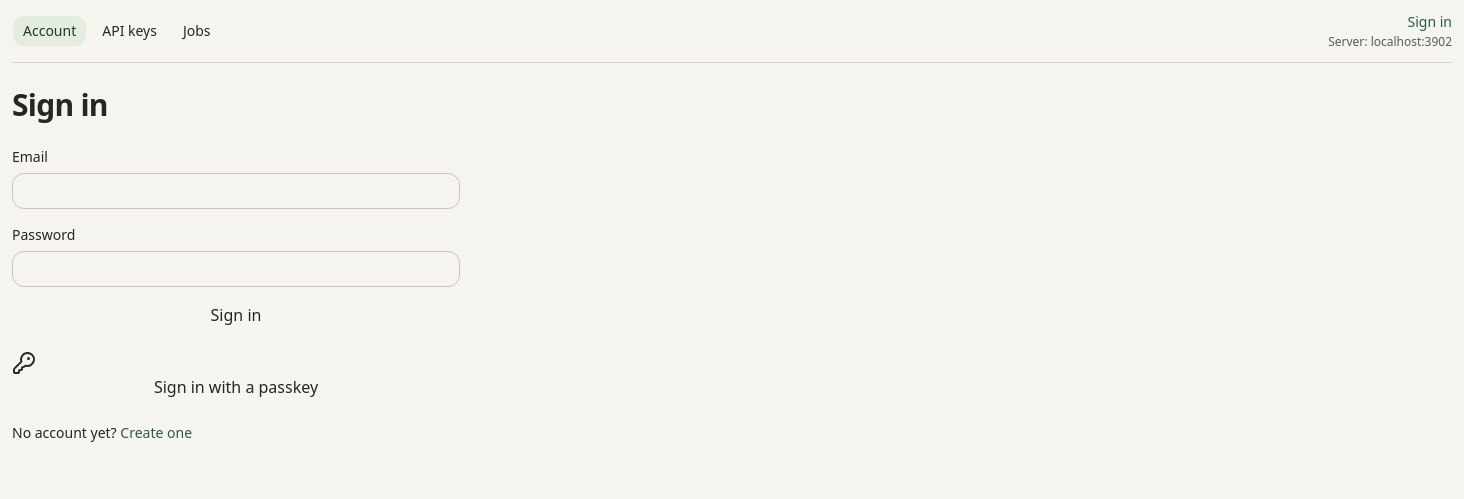
Scenario: sign in › shows the service's refusal
Type "ada@example.com" into the field labelled "Email". click: (236, 191)
box: [12,173,460,209]
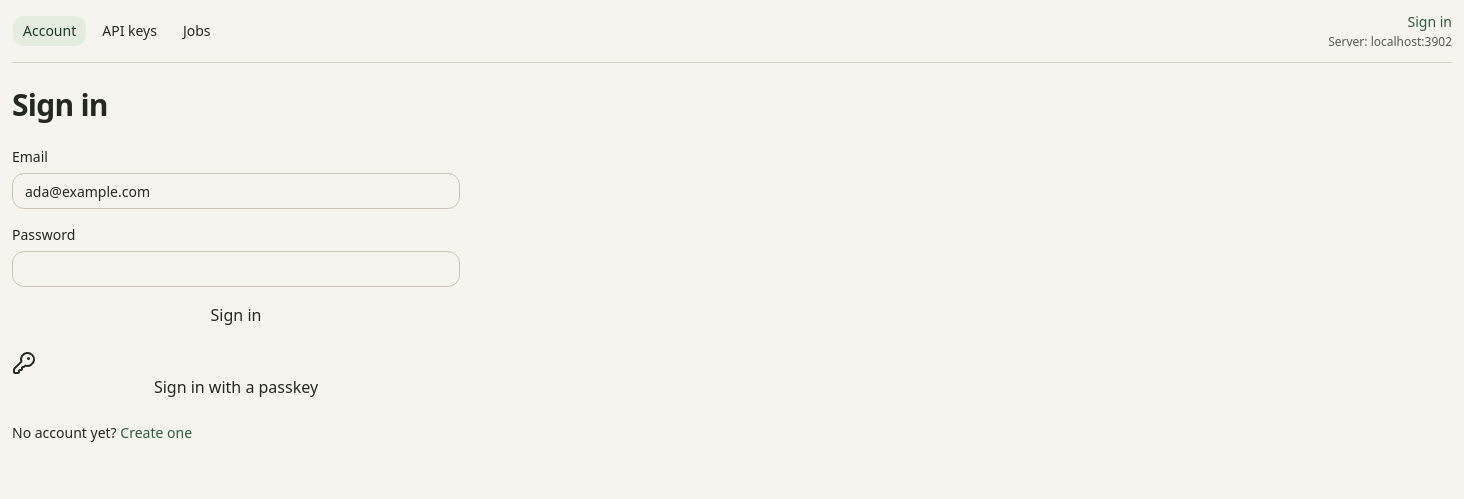
Type "wrong password" into the password field labelled "Password". click: (236, 269)
box: [12,251,460,287]
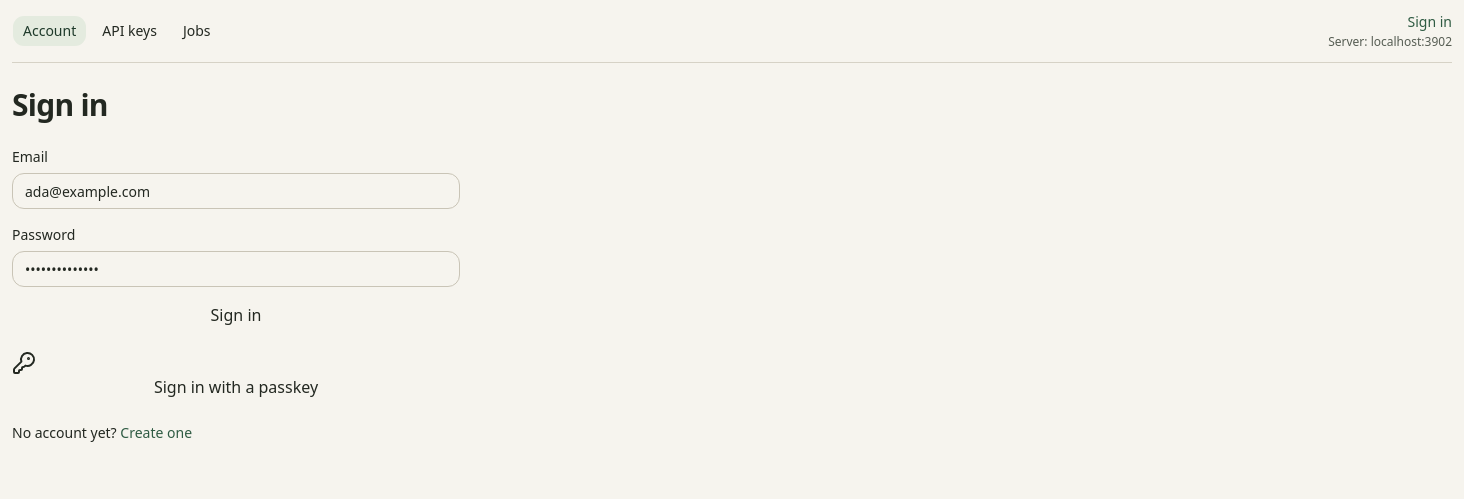
Click the button "Sign in". click: (236, 315)
box: [12,303,460,327]
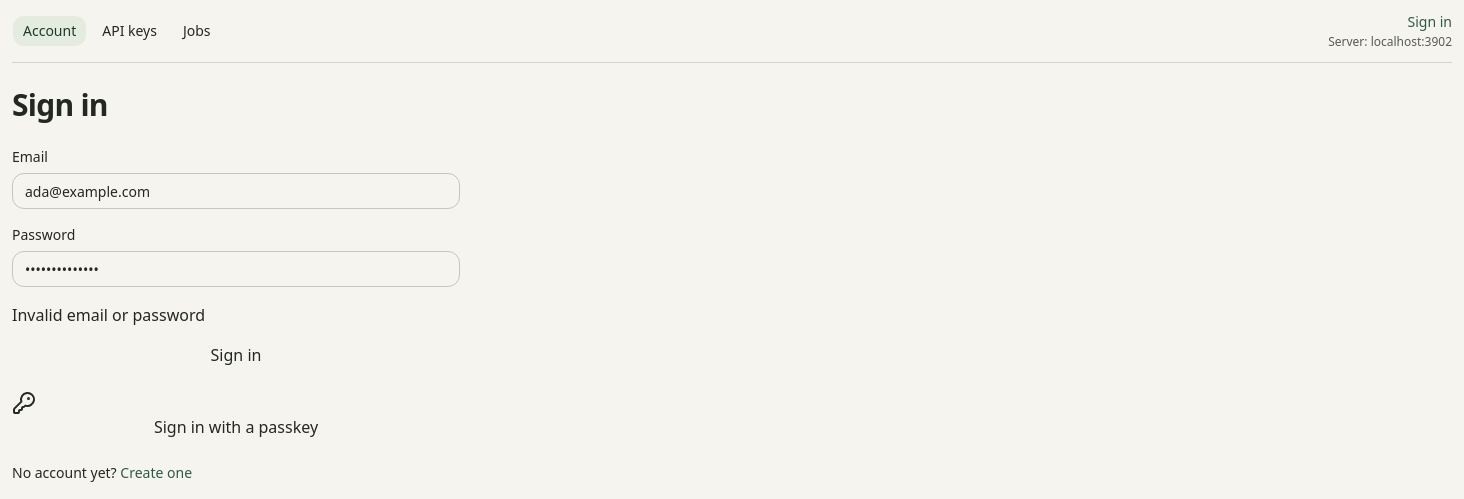
Check: the message reads "Invalid email or password", box [12,304,205,326]
